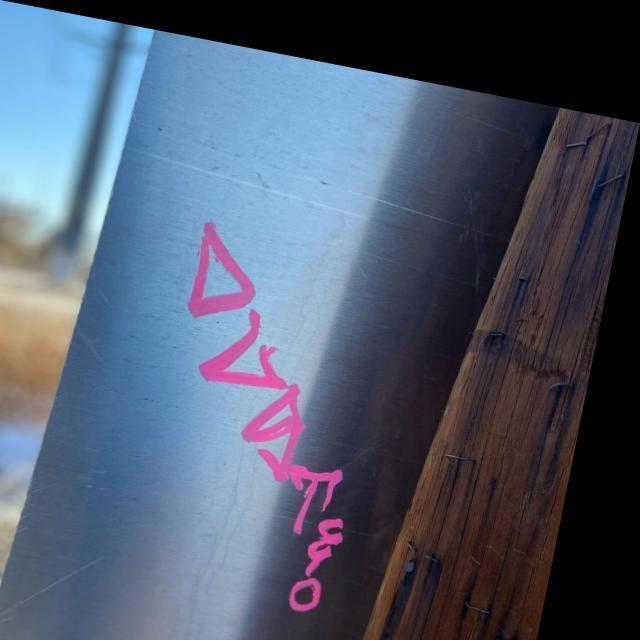nonspitting: (190, 219, 344, 610)
